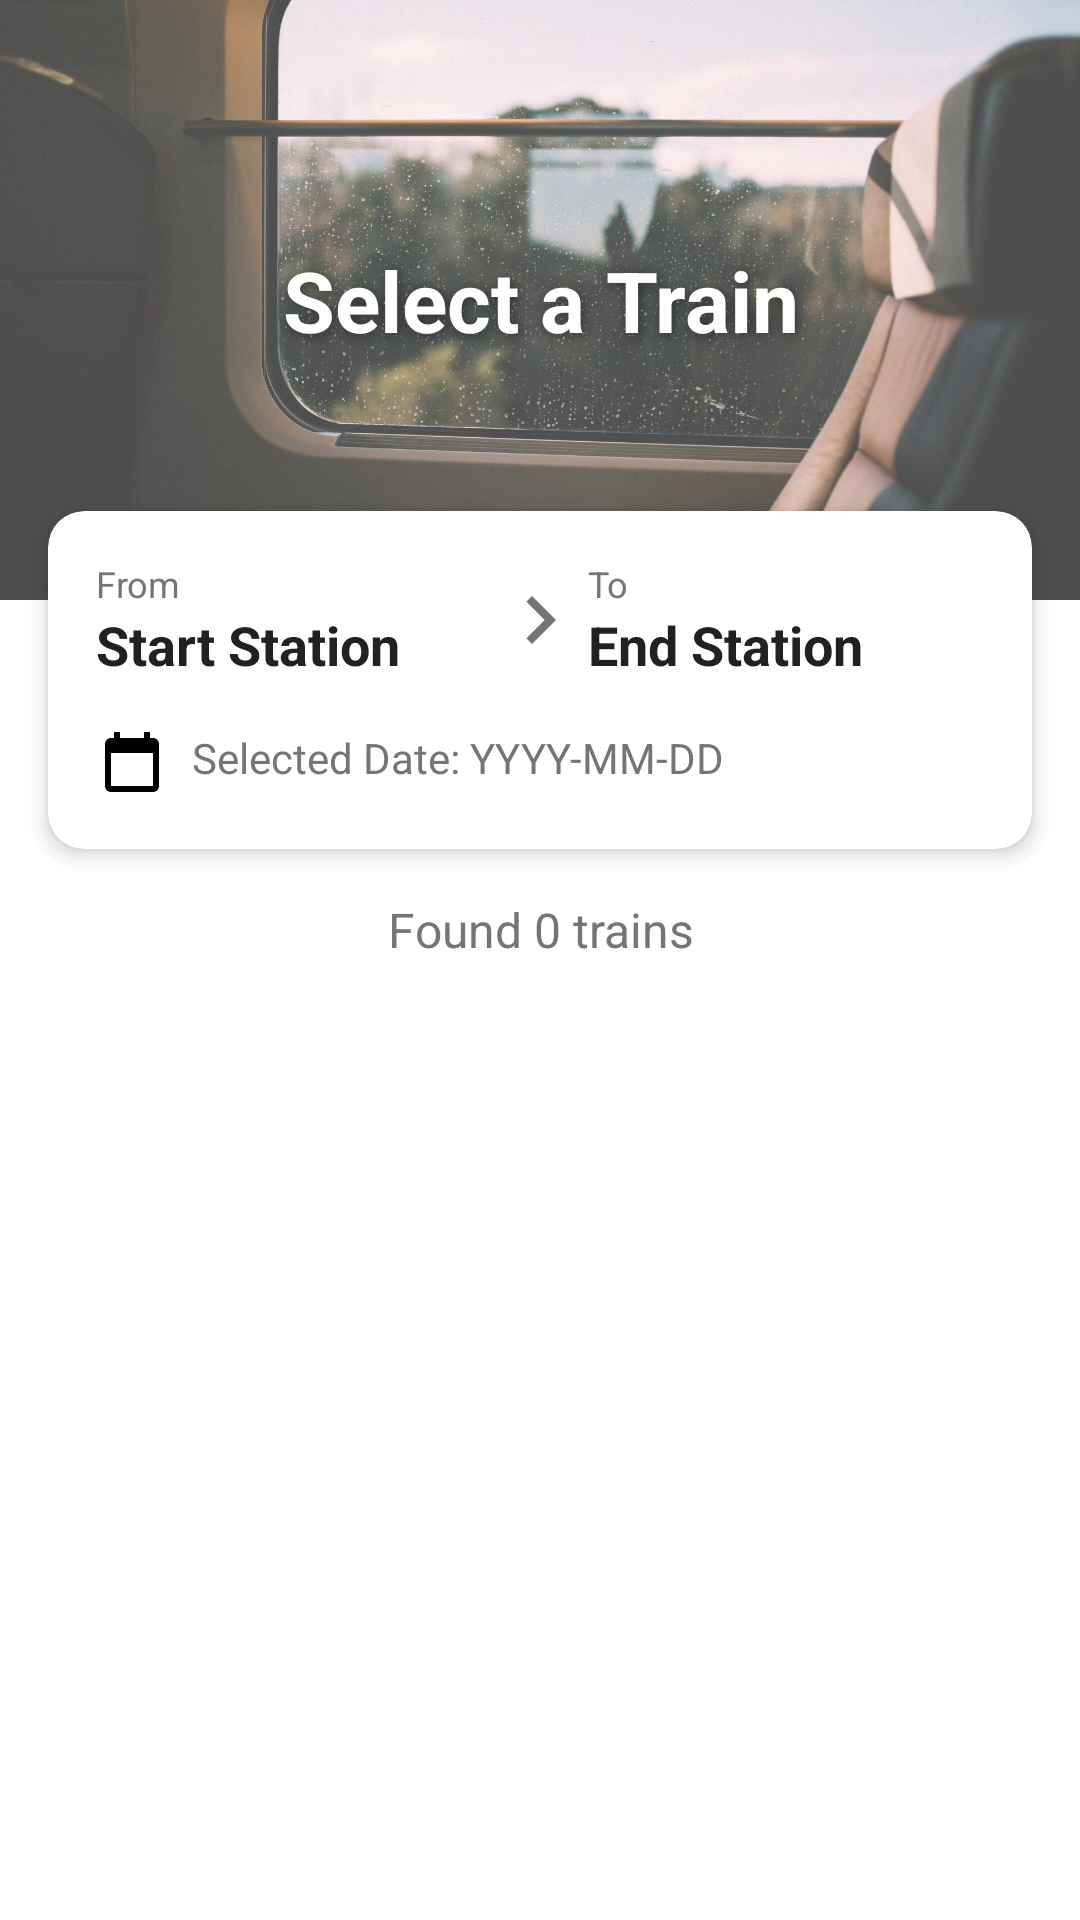

Icons on this 1080×1920 Android screen, each with the point to tap as (x=x, y=y):
arrow right: (x=541, y=620)
